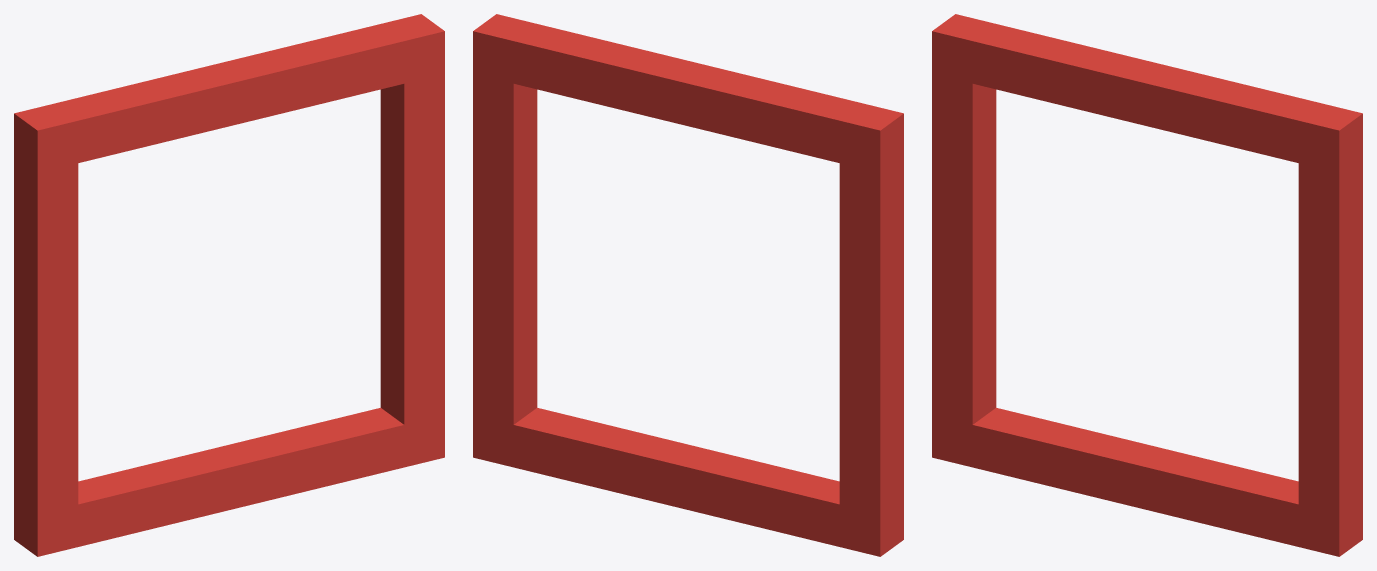
Rendered from wall.dae.
3 views of the same model, side by side, from view 1: azimuth 30°, elevation 25°; view 2: azimuth 150°, elevation 25°; view 3: azimuth 330°, elevation 25° (orthographic).
Visible parts, largest first — view 1: Wall; view 2: Wall; view 3: Wall.
Boxes of the visible parts, x1,y1,x2,y2 form: Wall: (14, 14, 444, 556); Wall: (473, 14, 903, 556); Wall: (932, 14, 1362, 556).
Bounding box in the file's own units: 2 × 0.2 × 2.
